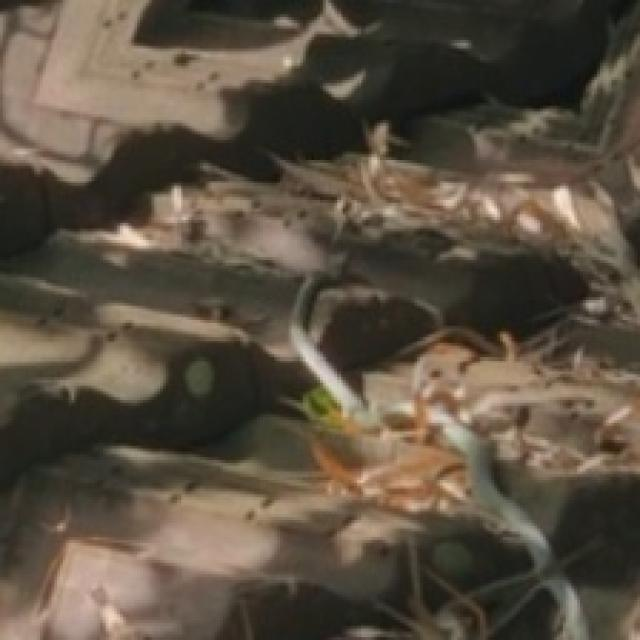paradise tree snake: (430, 405, 588, 639), (290, 254, 380, 429)
